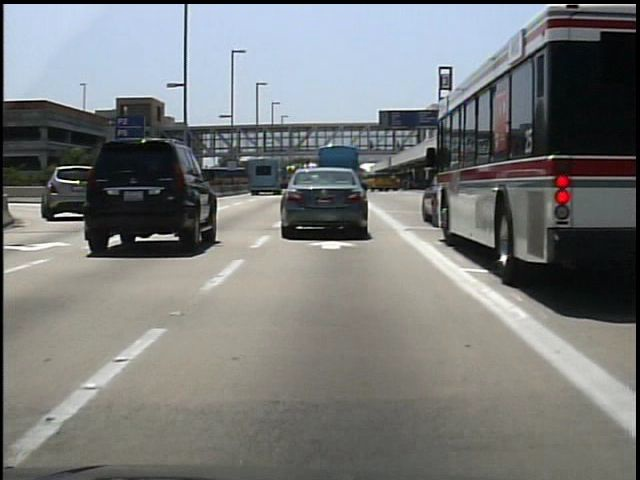person: (392, 136, 405, 157), (365, 136, 378, 156)
